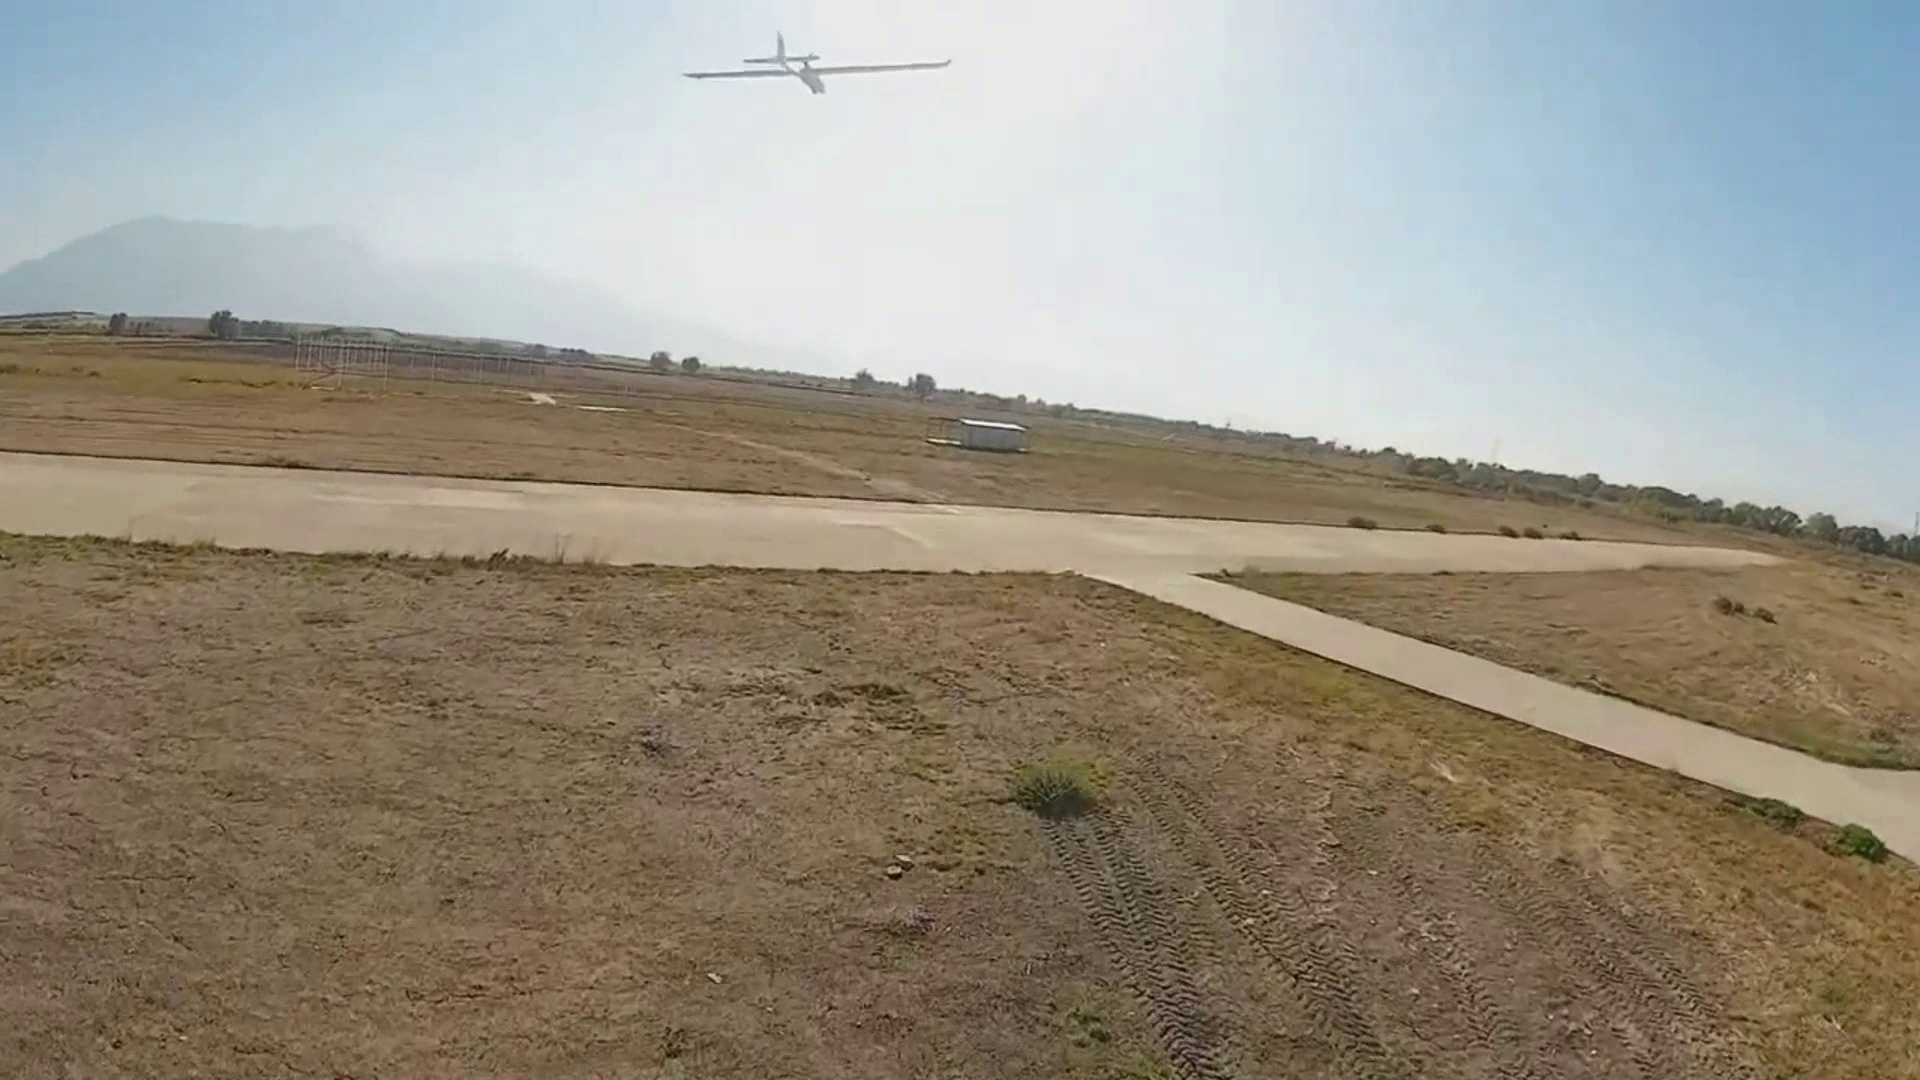airplane: (682, 29, 953, 93)
